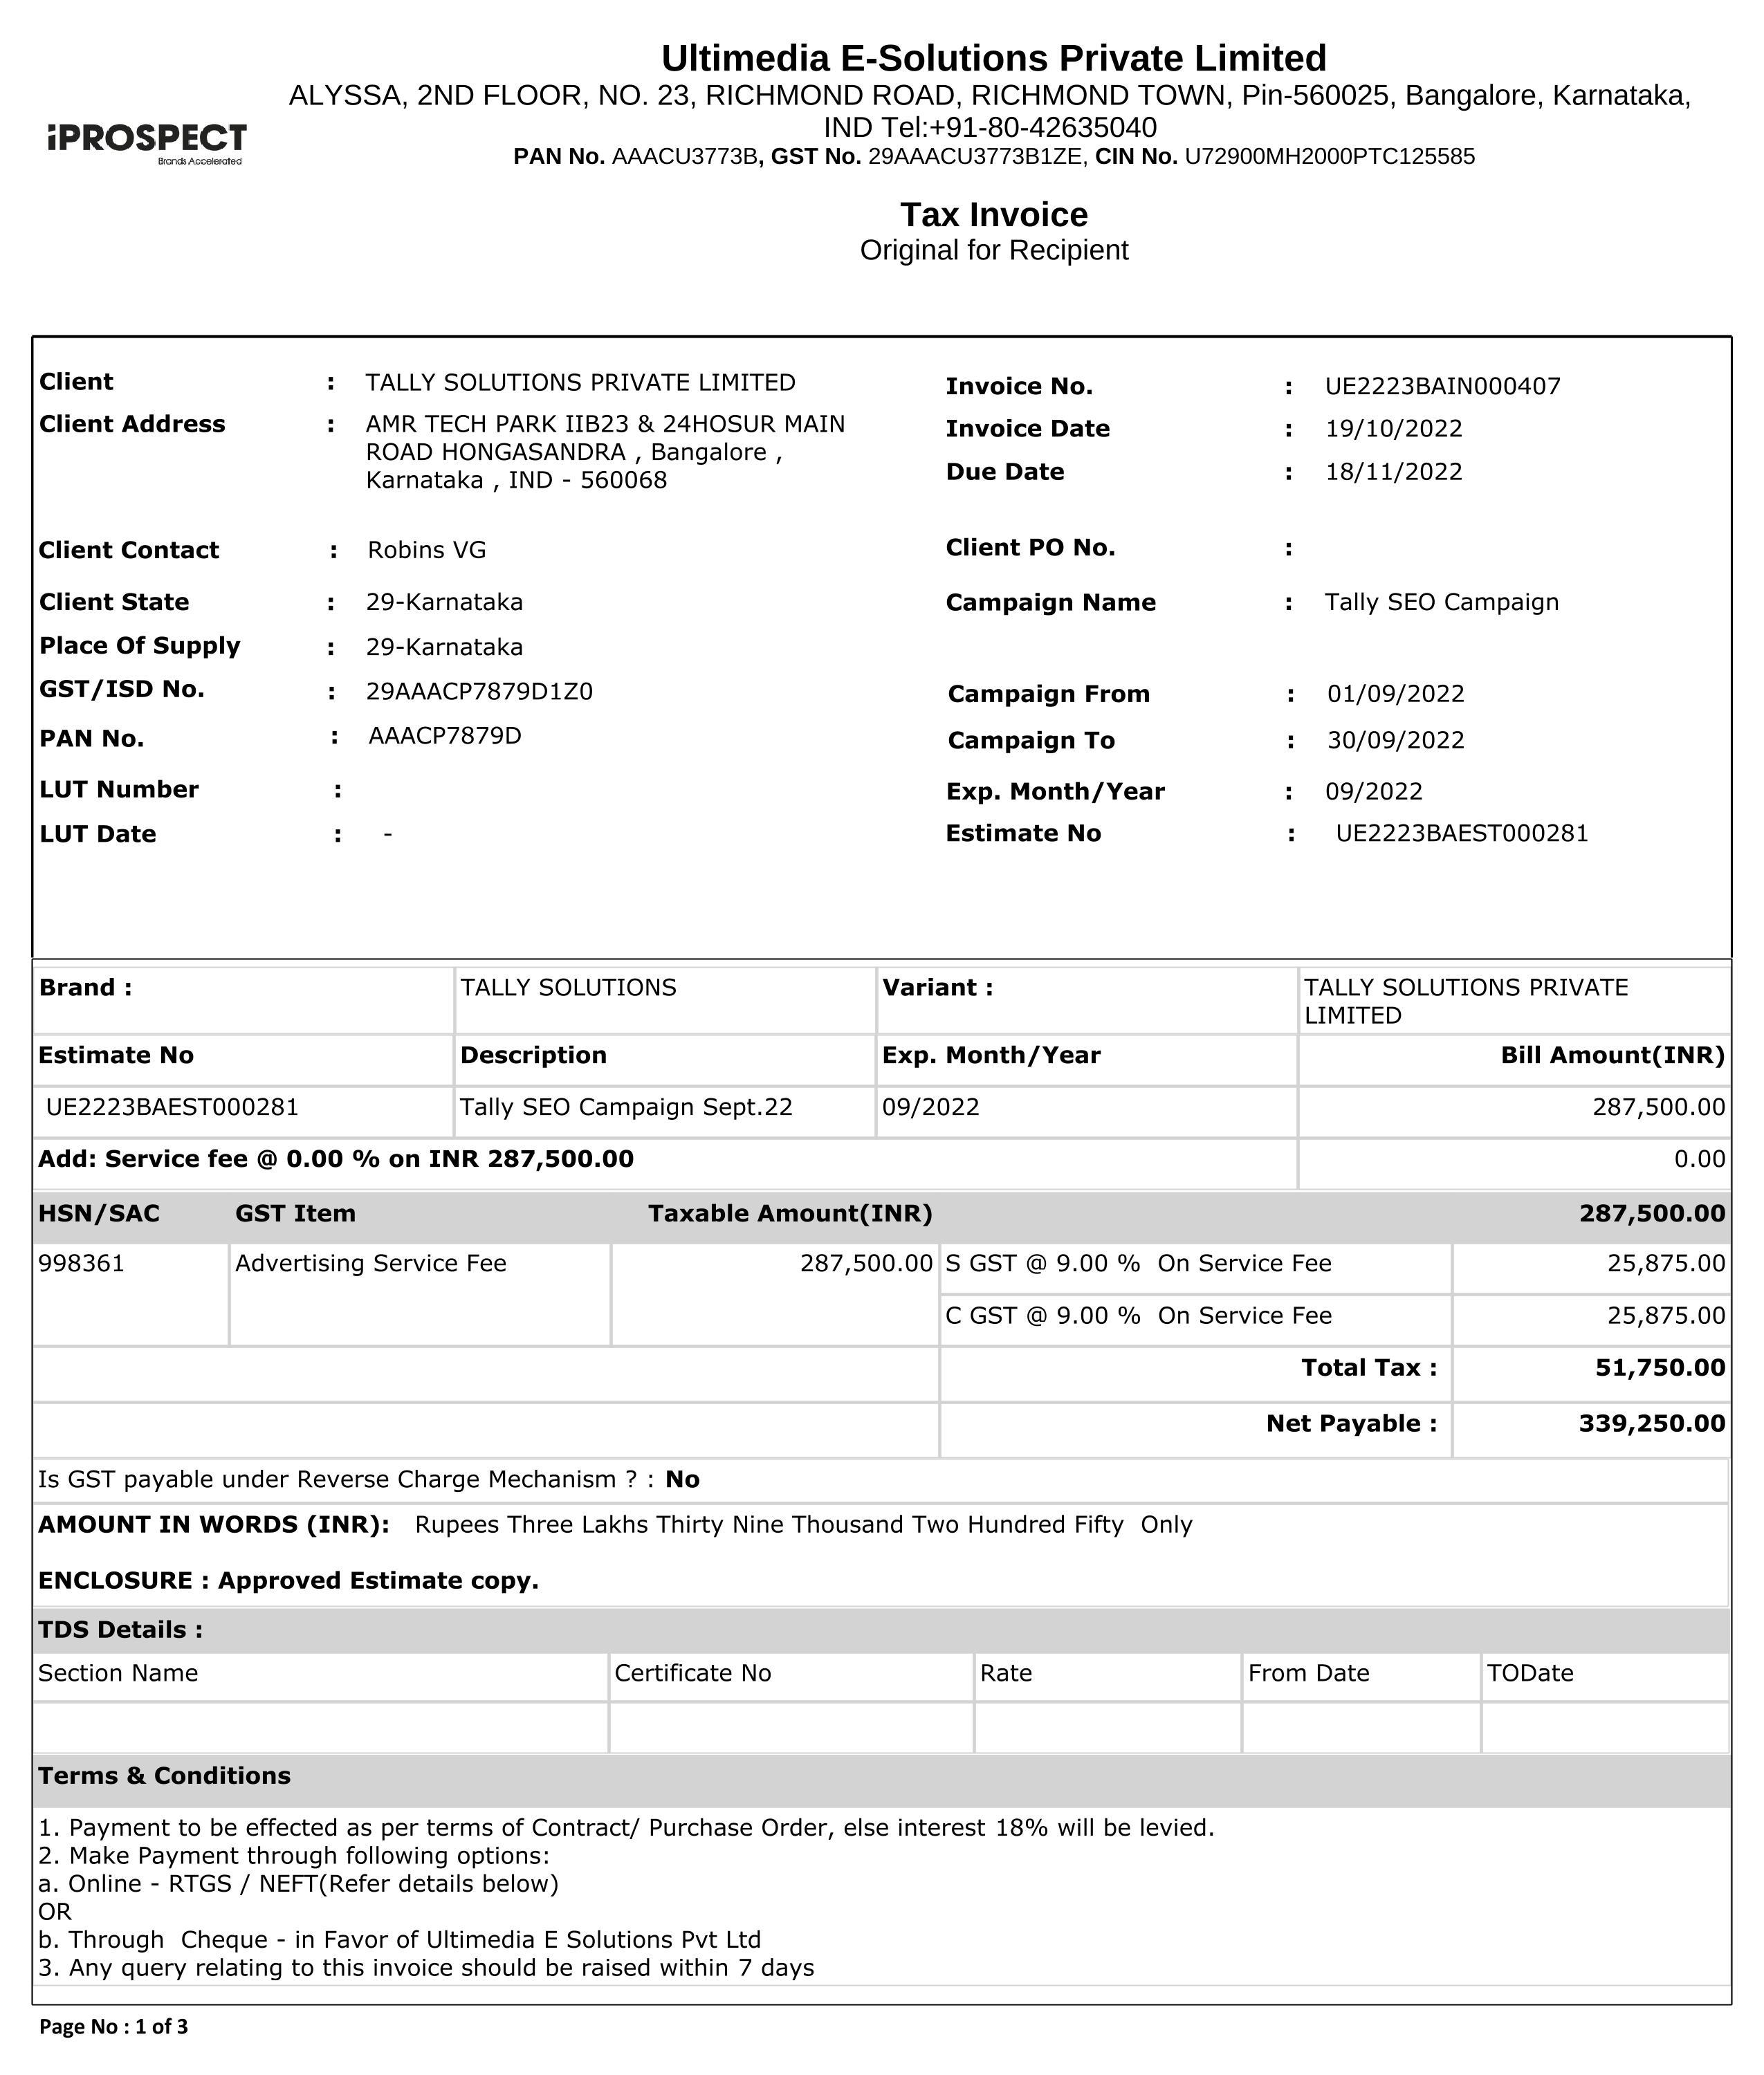InvoiceDate: (1298, 406, 1494, 446)
InvoiceNumber: (1298, 357, 1582, 416)
TotalAmount: (1547, 1401, 1738, 1457)
